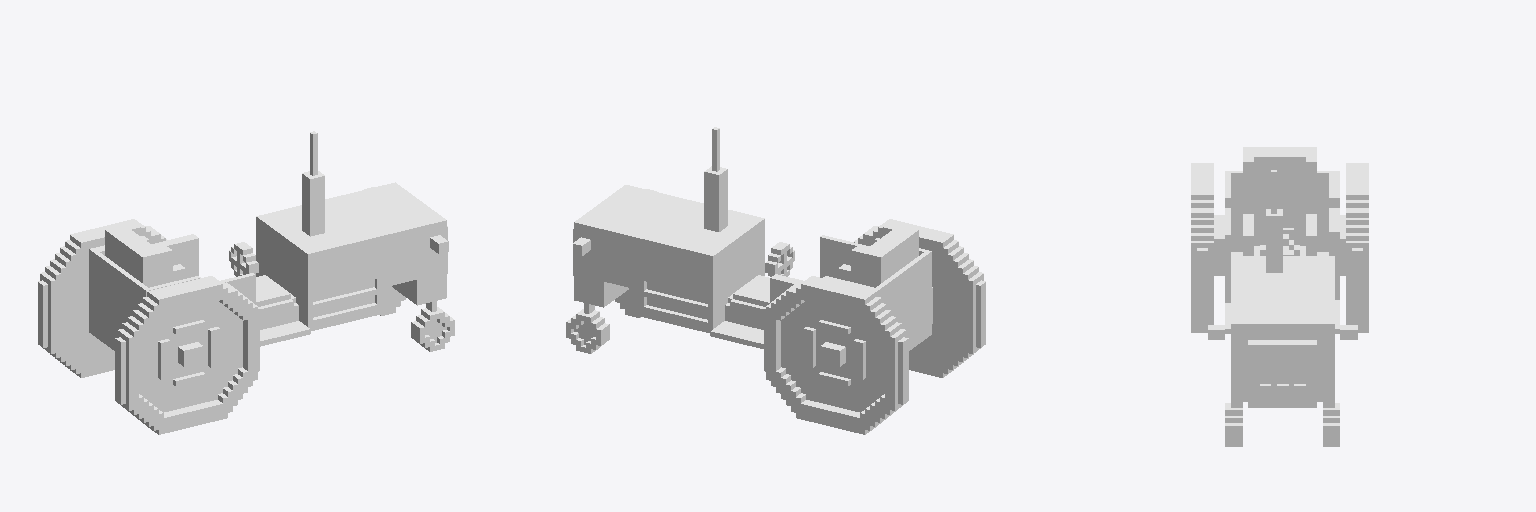
File: track.obj
3 views of the same model, side by side, from view 1: azimuth 30°, elevation 25°; view 2: azimuth 150°, elevation 25°; view 3: azimuth 270°, elevation 25° (orthographic).
Size of the model in its own units: 71 by 43 by 31.